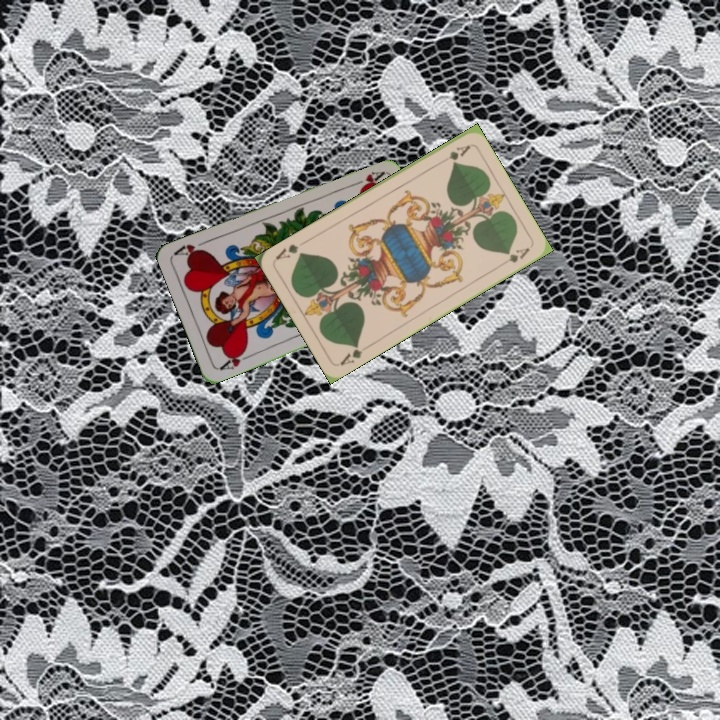GA: (435, 141, 473, 167), (336, 340, 365, 368)
HA: (346, 167, 386, 193), (216, 346, 254, 373)
